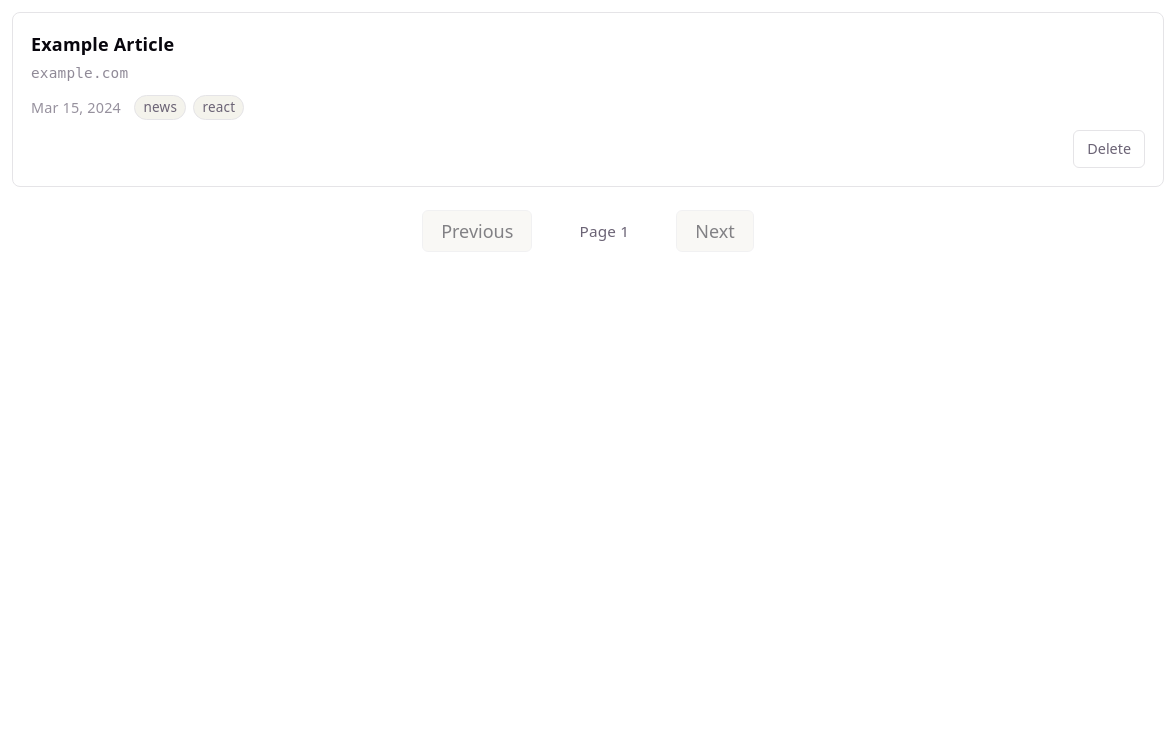
LinkList › delete and undo (LAR-34) › ticks the countdown displayed in the undo toast down as time passes
Expected: the link "Example Article" is shown, left=31, top=32, right=174, bottom=56
Click the button with aria-label "Delete Example Article".
click(1109, 149)  # box left=1073, top=130, right=1145, bottom=168
Wait 1200 ms
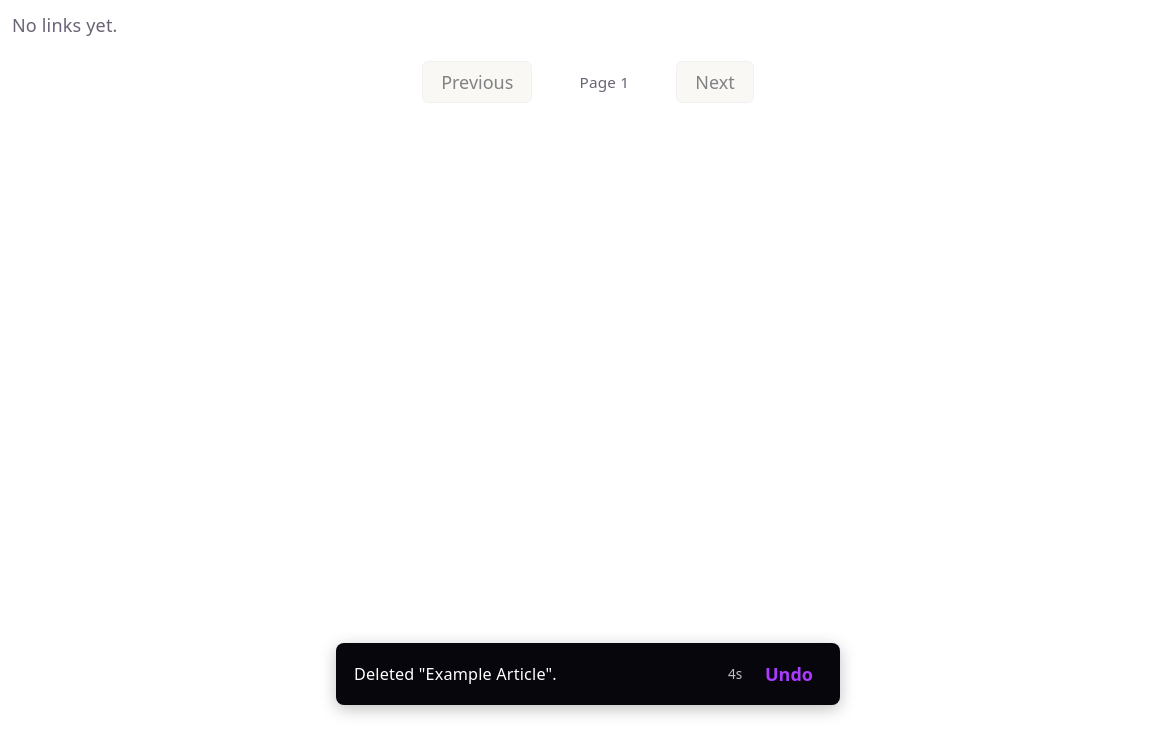
Expected: the text "4s" is shown, left=728, top=661, right=743, bottom=687
